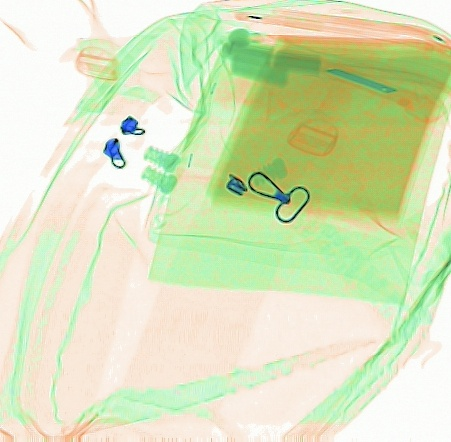knife: (291, 46, 445, 124)
